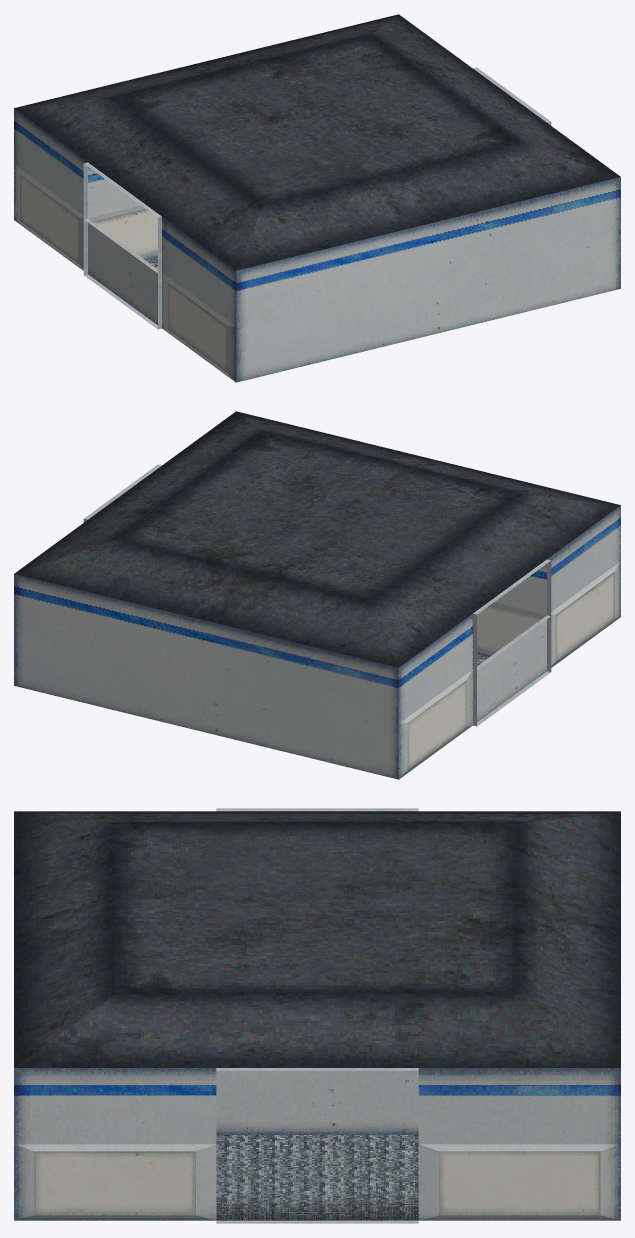
Rendered from moon_base.gltf.
3 views of the same model, one above another, from view 1: azimuth 30°, elevation 25°; view 2: azimuth 150°, elevation 25°; view 3: azimuth 270°, elevation 25° (orthographic). The views are drawn at different scales.
Parts seen in each view (by area): view 1: room1, room2, hall_x; view 2: room1, room2, hall_x; view 3: room1, room2, hall_i, hall_x.
Part boxes in pixels (x1,y1,x2,y2): room1: (14,14,620,382); room2: (14,62,428,382); hall_x: (88,167,157,262); room1: (14,411,620,779); room2: (206,463,620,778); hall_x: (477,564,546,657); room1: (14,808,620,1223); room2: (19,808,620,938); hall_i: (216,1070,418,1134); hall_x: (216,1135,418,1220).
Size of the model in its own units: 9.2 by 3 by 9.
1 material, 1 textured.
